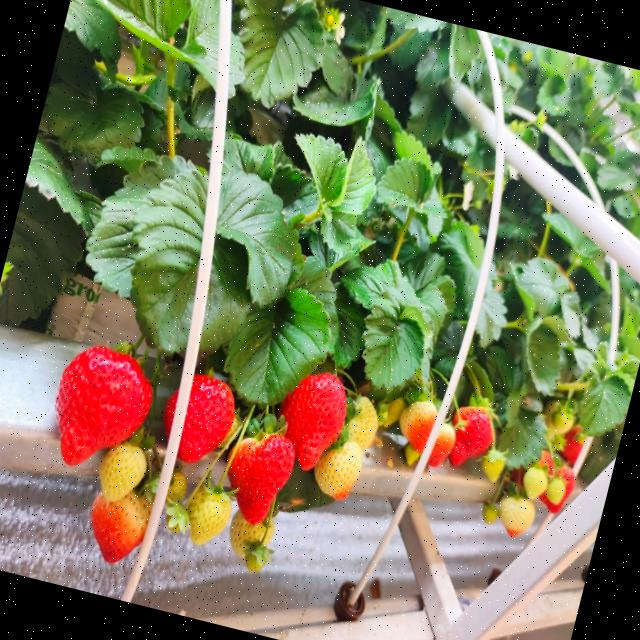Ripe Strawberry: (48, 339, 160, 445), (275, 372, 348, 471), (158, 371, 235, 462), (217, 459, 296, 533), (80, 512, 141, 570), (455, 406, 497, 458), (564, 426, 586, 464), (410, 425, 430, 454), (562, 472, 577, 486)
